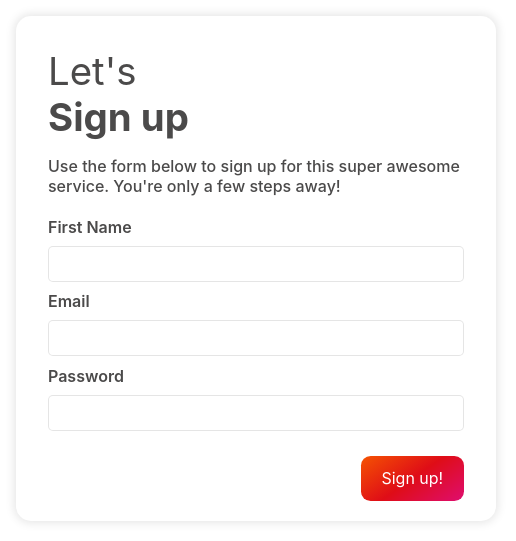
Test: routes to confirmation when formData submitted
In the field with test id "firstNameField": (256, 264) [48,246,464,282], type "TestUser"
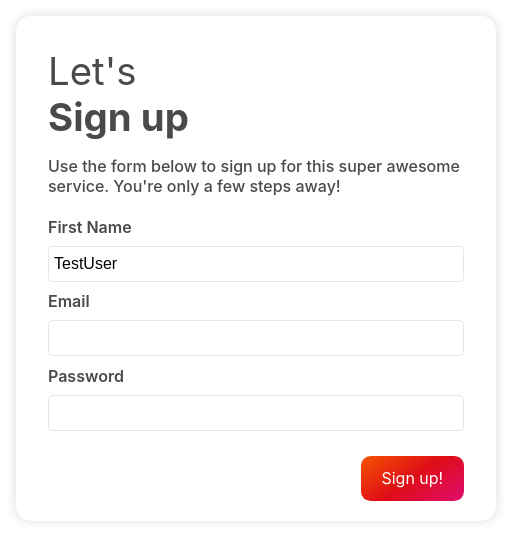
In the field with test id "emailField": (256, 338) [48,320,464,356], type "test@test.com"
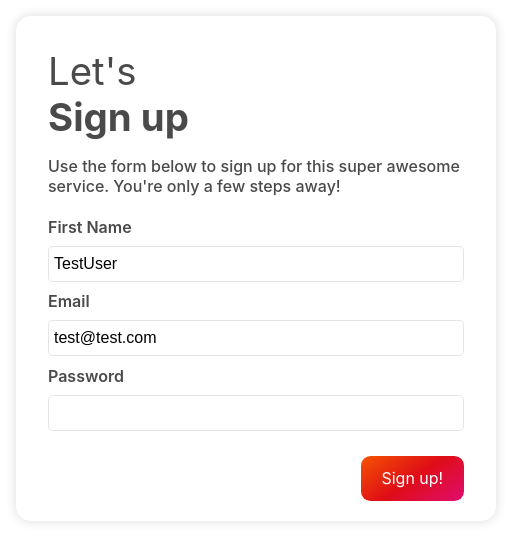
In the password field with test id "passwordField": (256, 413) [48,395,464,431], type "supersecretpassword"
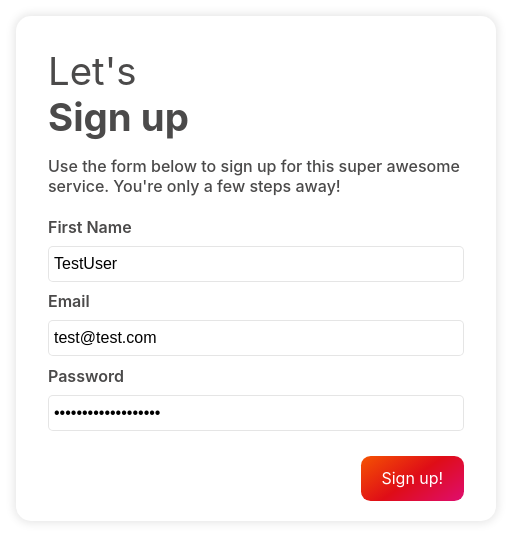
Click the button with test id "button": click(412, 478) [361,456,464,501]
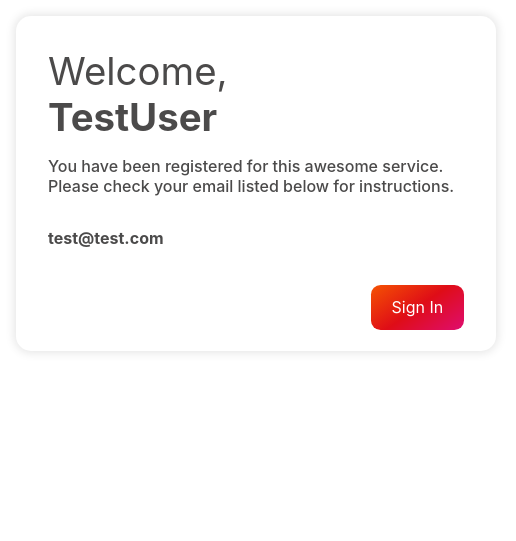
Expected: the element with test id "confirmation" is shown, [16,16,496,350]
Expected: the element with test id "confirmation" shows "test@test.com", [48,228,164,248]
Expected: the element with test id "confirmation" shows "TestUser", [48,94,217,140]
